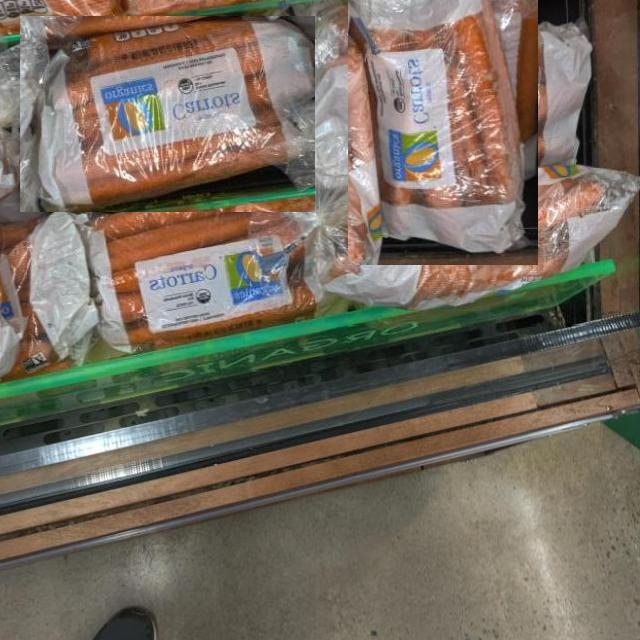Carrots: (28, 166, 348, 370), (20, 15, 315, 212), (307, 168, 631, 325), (347, 0, 538, 265)
